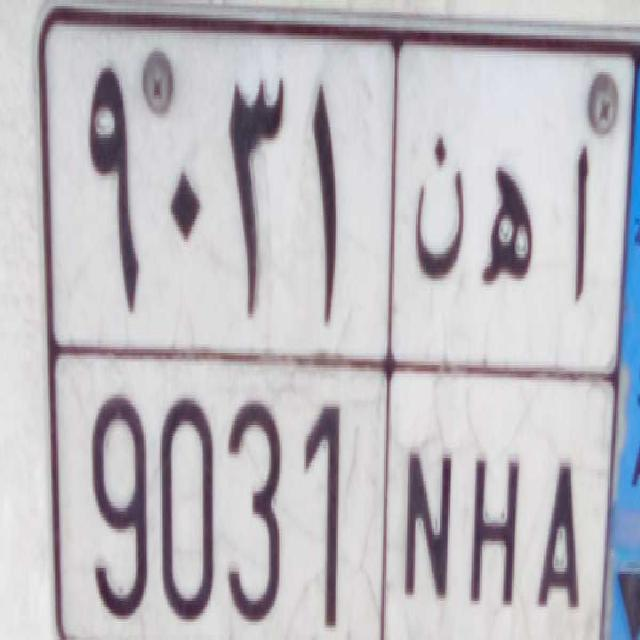license_plate: (54, 342, 607, 640)
